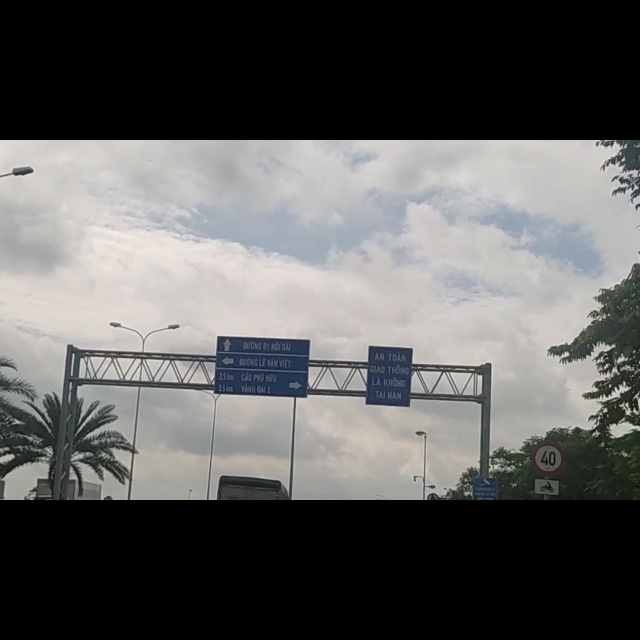bien_chi_dan: (531, 532, 565, 597), (533, 601, 561, 633)
